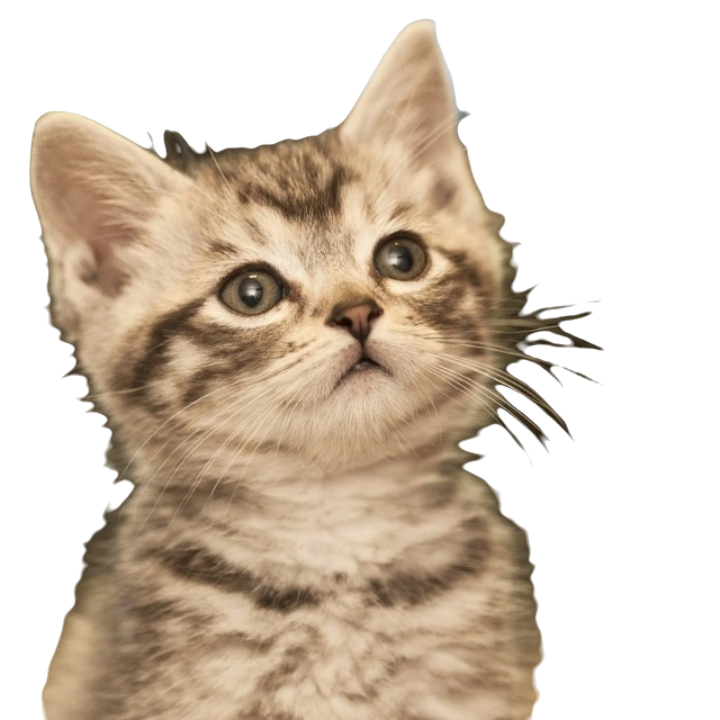Cat: (20, 13, 604, 719)
